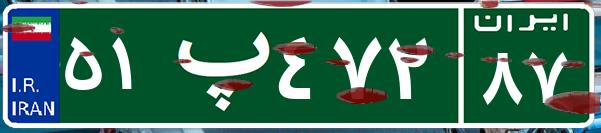1: (110, 28, 158, 105)
2: (385, 28, 445, 110)
4: (273, 28, 330, 110)
5: (57, 26, 110, 107)
7: (330, 28, 385, 110), (525, 38, 570, 115)
8: (475, 38, 525, 113)
پ: (158, 15, 273, 115)
